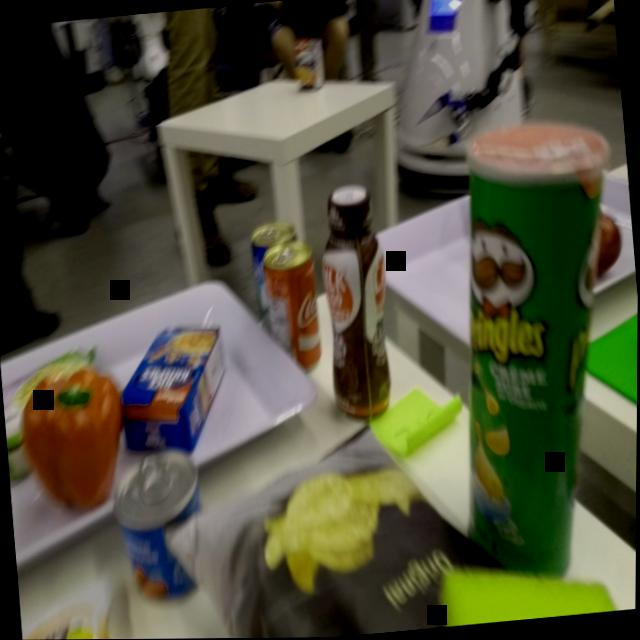cereal: (108, 317, 236, 462)
chocolate_drink: (312, 177, 404, 428)
coke: (261, 236, 329, 379)
paprika: (18, 363, 134, 519)
pringles: (423, 108, 639, 600)
sausages: (106, 443, 216, 610)
